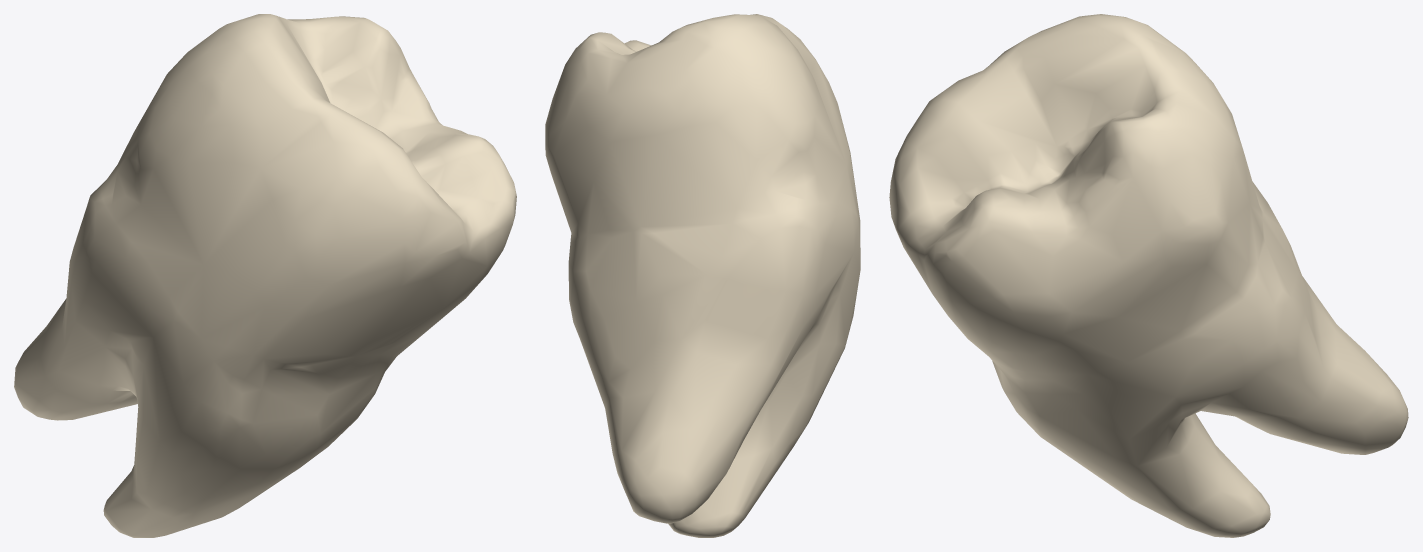
File: lower-second-molar-tooth-r.glb
3 renders of one model, left to right at view 1: azimuth 30°, elevation 25°; view 2: azimuth 150°, elevation 25°; view 3: azimuth 270°, elevation 25°, orthographic. The views are drawn at different scales.
Visible parts, largest first — view 1: Lower second molar tooth.r; view 2: Lower second molar tooth.r; view 3: Lower second molar tooth.r.
Part boxes in pixels (bbox=[...]): Lower second molar tooth.r: bbox=[14, 14, 516, 537]; Lower second molar tooth.r: bbox=[545, 14, 860, 537]; Lower second molar tooth.r: bbox=[889, 14, 1408, 537].
Size of the model in its own units: 0.0118 by 0.0182 by 0.0161.
